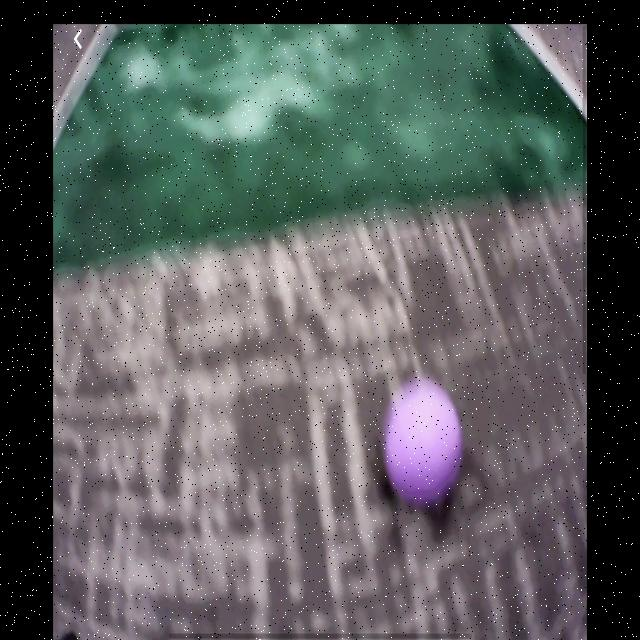ball: (385, 383, 462, 505)
